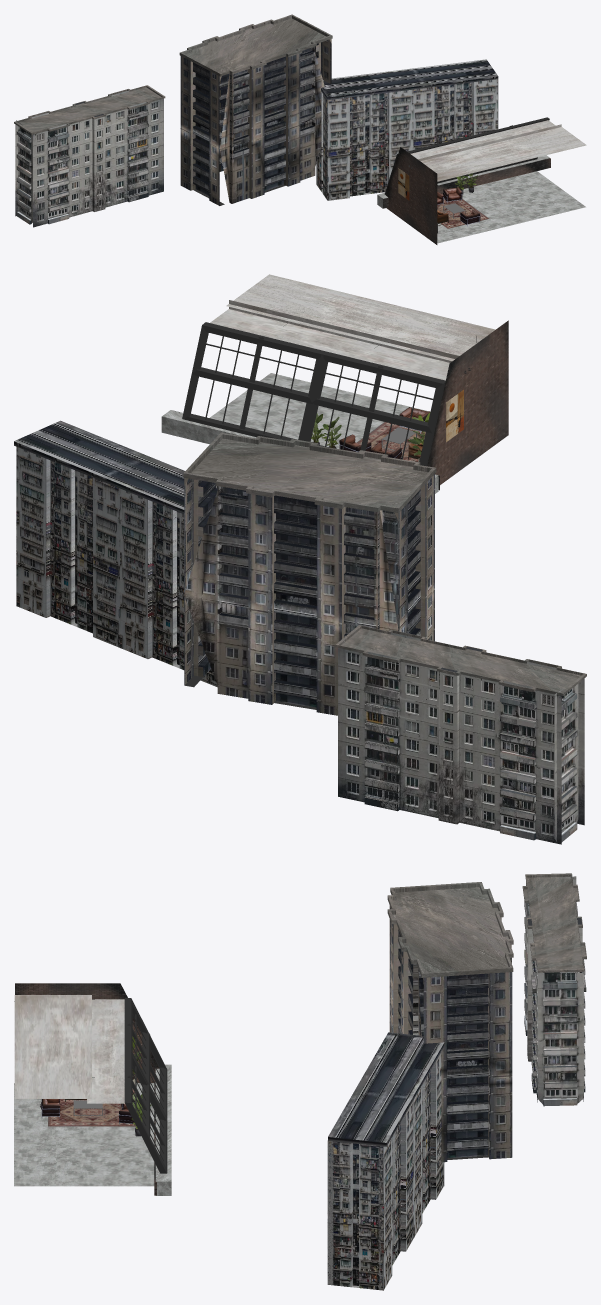
File: loft2_free_interior-optimized.glb
The picture shows the model from 3 angles, top to bottom: view 1: azimuth 30°, elevation 25°; view 2: azimuth 150°, elevation 25°; view 3: azimuth 270°, elevation 25°; orthographic projection. The views are drawn at different scales.
Visible parts, largest first — view 1: Cube.006, Cube.008, Cube.009, Plane, Plane.004, Plane.003, Plane.002, Cube.011, Plane.010, Plane.001, Plane.006; view 2: Cube.006, Cube.009, Cube.008, Plane.004, Plane.003, Plane.002, Plane.001, Plane, Plane.006, Cube.010, Plane.010, node_0.004_Material.006_0 (+1 smaller); view 3: Cube.006, Cube.008, Cube.009, Plane, Plane.004, Plane.002, Plane.001, Plane.006, Plane.003, Plane.010, Cube.010.
Boxes of the visible parts, bbox=[...] form: Cube.006: bbox=[179, 14, 332, 205]; Cube.008: bbox=[316, 59, 498, 200]; Cube.009: bbox=[14, 85, 165, 227]; Plane: bbox=[437, 171, 585, 243]; Plane.004: bbox=[421, 127, 586, 181]; Plane.003: bbox=[386, 147, 437, 244]; Plane.002: bbox=[410, 120, 561, 161]; Cube.011: bbox=[466, 158, 550, 187]; Plane.010: bbox=[437, 199, 489, 228]; Plane.001: bbox=[461, 117, 549, 177]; Plane.006: bbox=[384, 136, 474, 195]; Cube.006: bbox=[183, 432, 436, 715]; Cube.009: bbox=[335, 625, 586, 844]; Cube.008: bbox=[14, 420, 217, 687]; Plane.004: bbox=[226, 274, 495, 361]; Plane.003: bbox=[427, 320, 508, 484]; Plane.002: bbox=[210, 300, 459, 380]; Plane.001: bbox=[182, 322, 326, 440]; Plane: bbox=[210, 373, 427, 448]; Plane.006: bbox=[303, 351, 445, 466]; Cube.010: bbox=[161, 410, 256, 444]; Plane.010: bbox=[356, 422, 425, 461]; node_0.004_Material.006_0: bbox=[311, 412, 430, 461]; Cube.006: bbox=[387, 882, 513, 1162]; Cube.008: bbox=[327, 1032, 444, 1290]; Cube.009: bbox=[522, 873, 586, 1106]; Plane: bbox=[14, 1083, 154, 1186]; Plane.004: bbox=[14, 995, 91, 1098]; Plane.002: bbox=[87, 999, 124, 1103]; Plane.001: bbox=[124, 1050, 167, 1173]; Plane.006: bbox=[124, 997, 167, 1120]; Plane.003: bbox=[15, 983, 159, 1082]; Plane.010: bbox=[48, 1099, 135, 1126]; Cube.010: bbox=[155, 1123, 171, 1195].
Size of the model in its own units: 24.62 by 8.9 by 20.94.
Materials: 18 (14 with a texture image).
